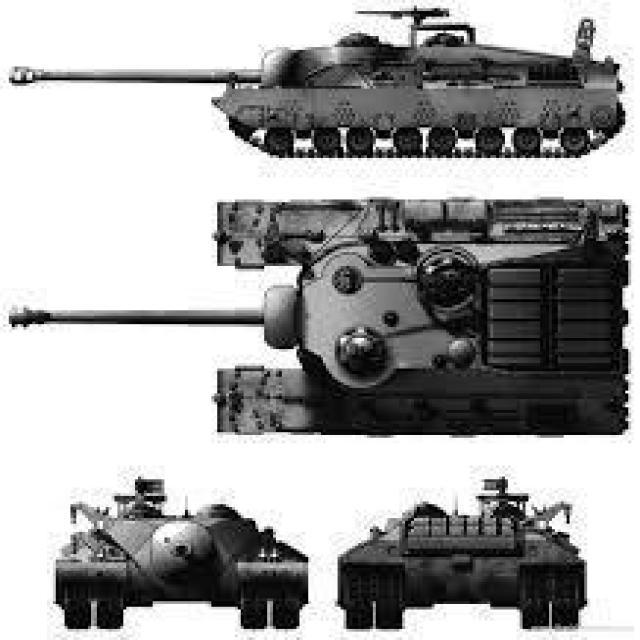MIL_MBT: (7, 166, 633, 429), (7, 6, 630, 158), (332, 468, 590, 637), (50, 475, 314, 633)
